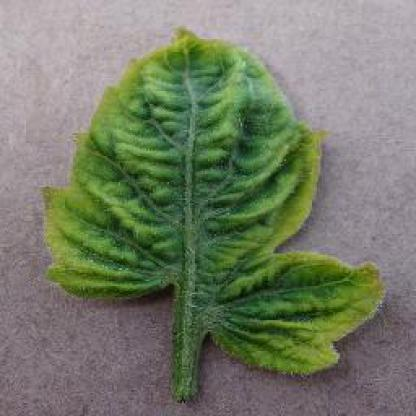bad leaf: (50, 19, 360, 410)
